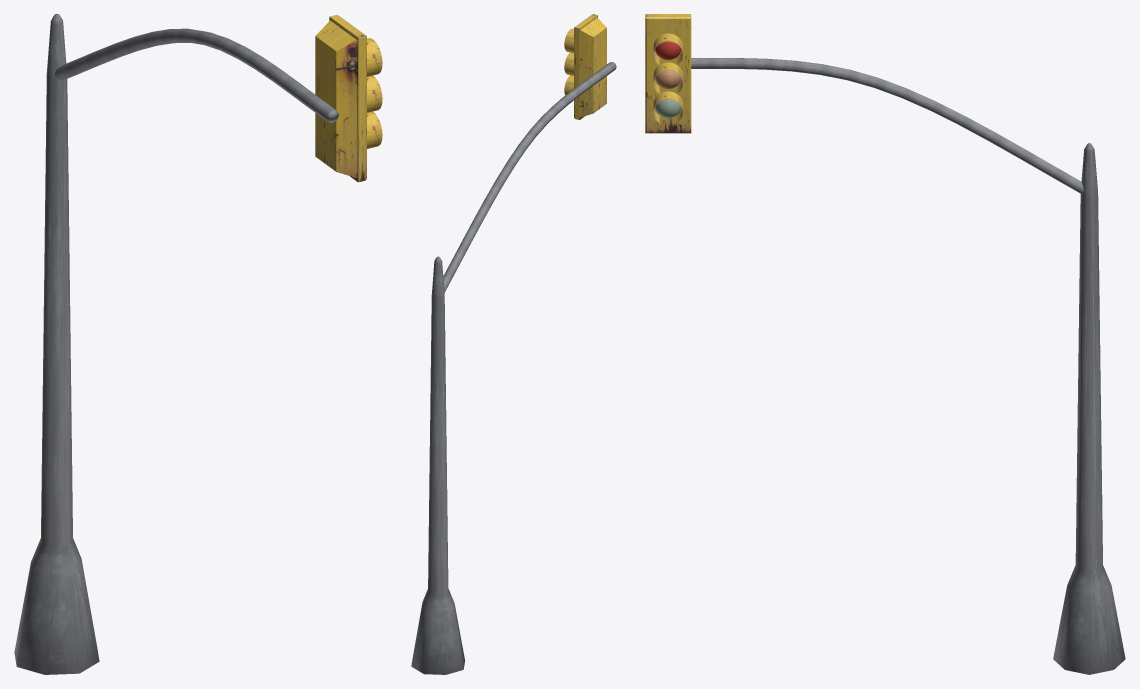
File: traffic_light.fbx
3 views of the same model, side by side, from view 1: azimuth 30°, elevation 25°; view 2: azimuth 150°, elevation 25°; view 3: azimuth 270°, elevation 25° (orthographic). The views are drawn at different scales.
Parts seen in each view (by area): view 1: traffic_light; view 2: traffic_light; view 3: traffic_light.
Boxes of the visible parts, x1=… form: traffic_light: x1=14, y1=14, x2=382, y2=674; traffic_light: x1=411, y1=14, x2=616, y2=674; traffic_light: x1=645, y1=14, x2=1125, y2=674.
Bounding box in the file's own units: 1.56 × 12.92 × 8.59.
